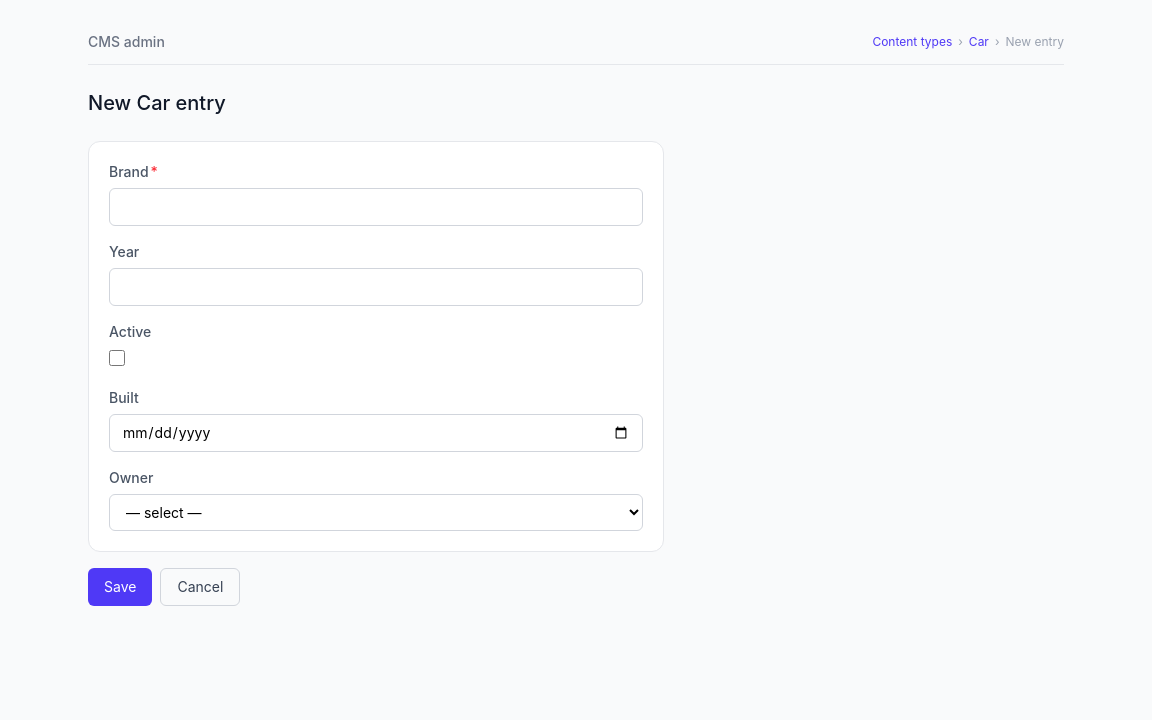
NewEntry › shows "Something went wrong" when save fails
The width and height of the screenshot is (1152, 720).
Type "Toyota" into the field labelled "Brand*" at x=376, y=207, box left=109, top=188, right=643, bottom=226
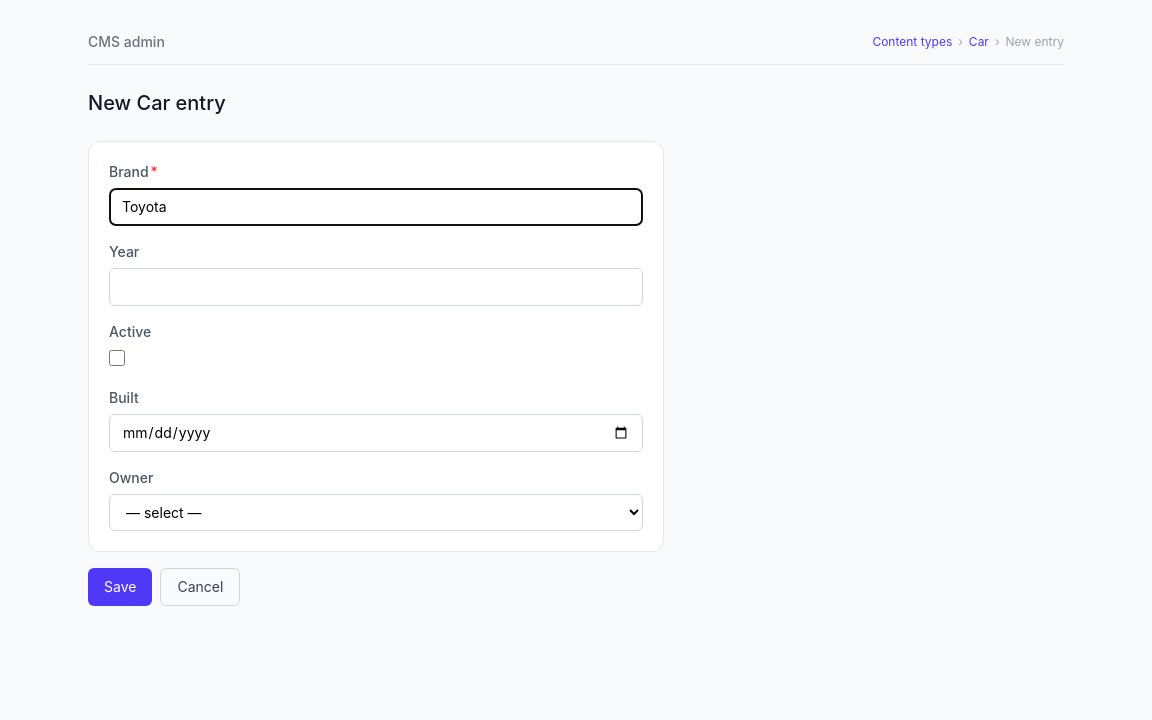
Submit the form, box left=88, top=141, right=664, bottom=606
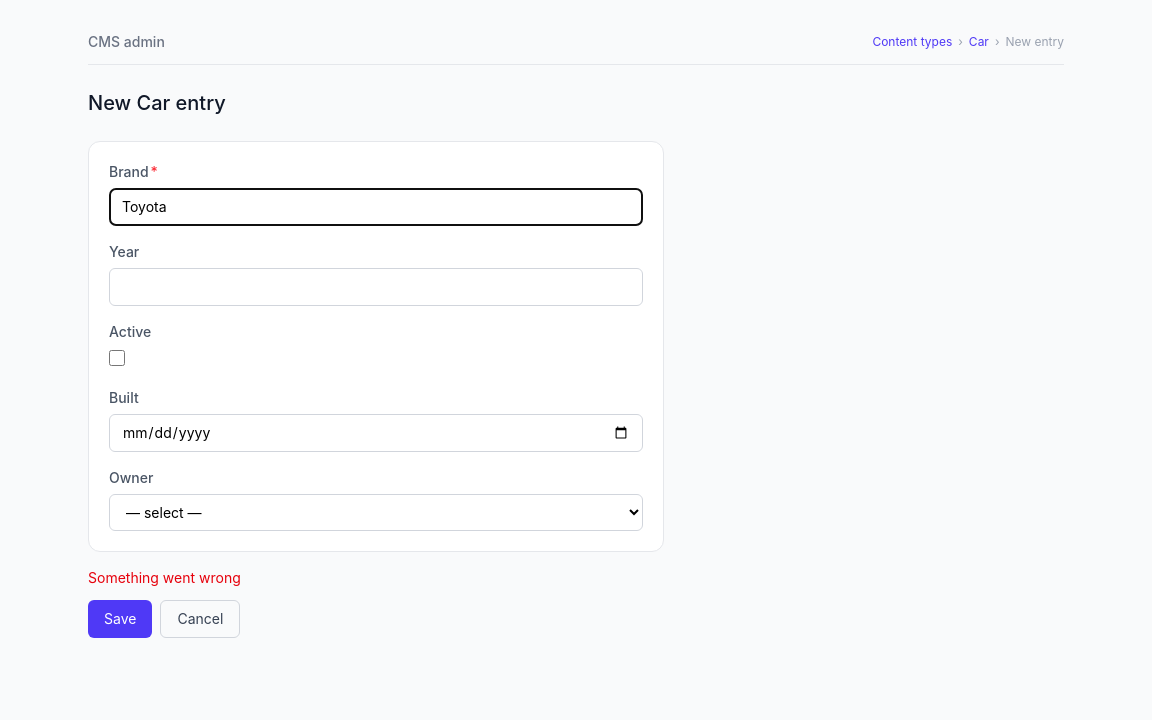
Check: the text "Something went wrong" is shown, box left=88, top=569, right=241, bottom=586
